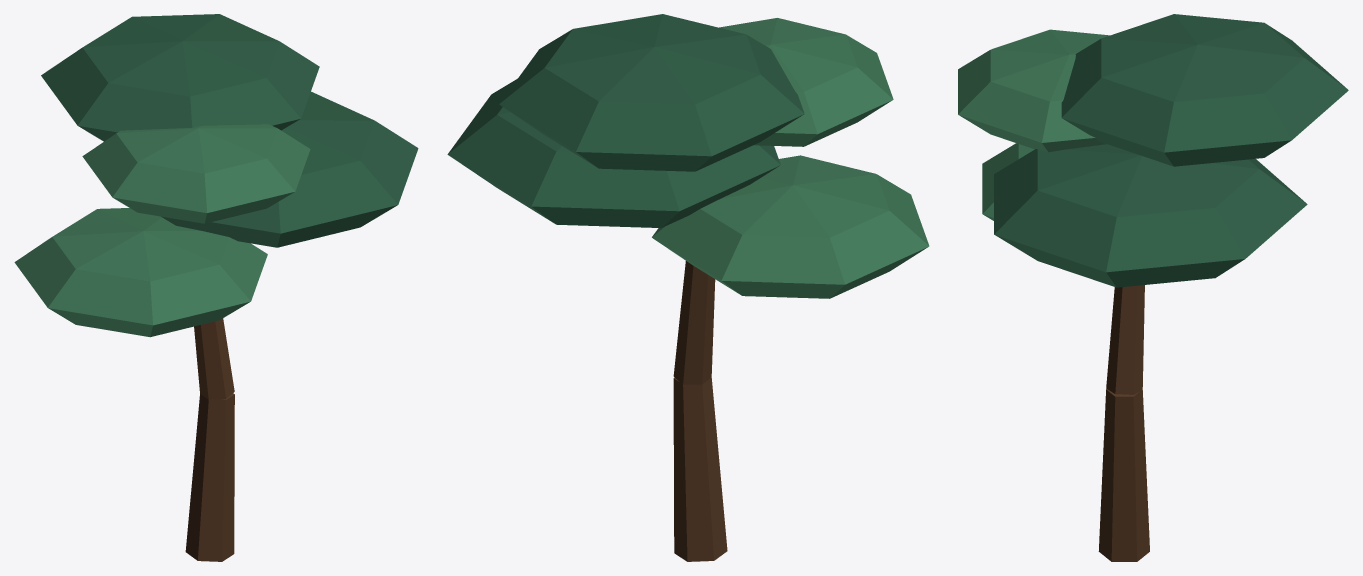
Rendered from nature_pine_a.glb.
3 views of the same model, side by side, from view 1: azimuth 30°, elevation 25°; view 2: azimuth 150°, elevation 25°; view 3: azimuth 270°, elevation 25° (orthographic). The views are drawn at different scales.
Parts seen in each view (by area): view 1: nature_pine_a; view 2: nature_pine_a; view 3: nature_pine_a.
Boxes of the visible parts, <box> form: nature_pine_a: <box>14,14,418,561</box>; nature_pine_a: <box>447,14,929,561</box>; nature_pine_a: <box>958,14,1348,561</box>.
Size of the model in its own units: 5.12 by 6.16 by 4.27.
